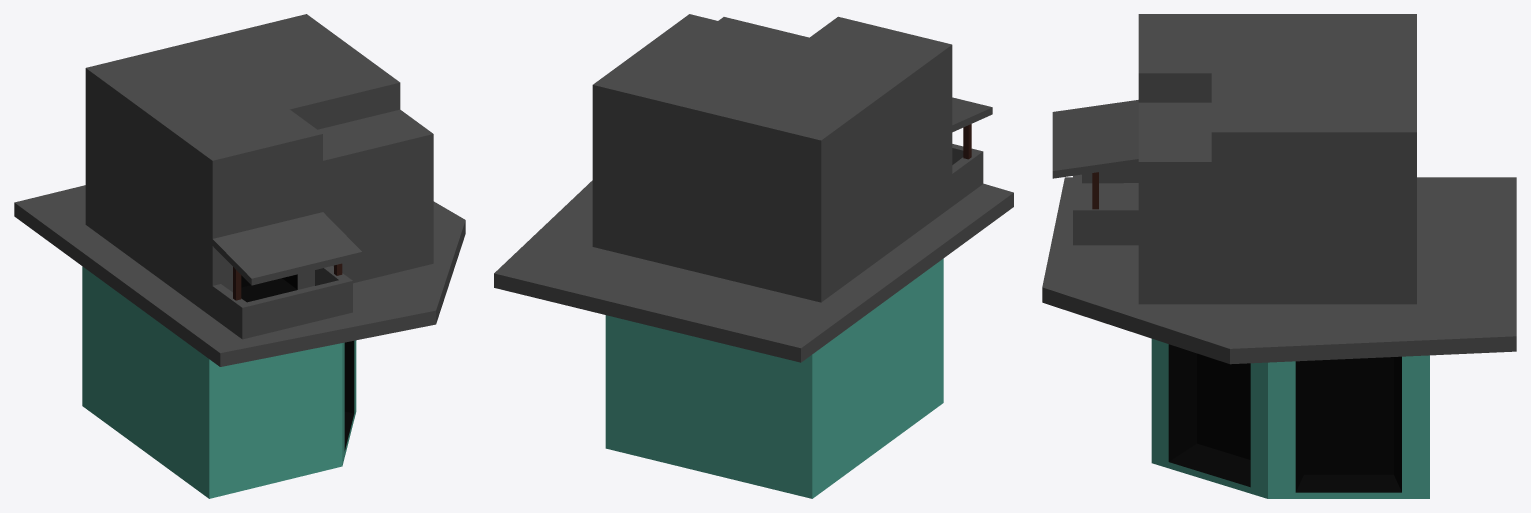
The model's file is loja_14.fbx.
3 renders of one model, left to right at view 1: azimuth 30°, elevation 25°; view 2: azimuth 150°, elevation 25°; view 3: azimuth 270°, elevation 25°, orthographic. The views are drawn at different scales.
Visible parts, largest first — view 1: Cube; view 2: Cube; view 3: Cube.
Part boxes in pixels (box(x1,y1,x2,y2)): Cube: box(14, 14, 465, 498); Cube: box(494, 14, 1013, 498); Cube: box(1042, 14, 1516, 498).
Bounding box in the file's own units: 1872 × 1914 × 2186.
